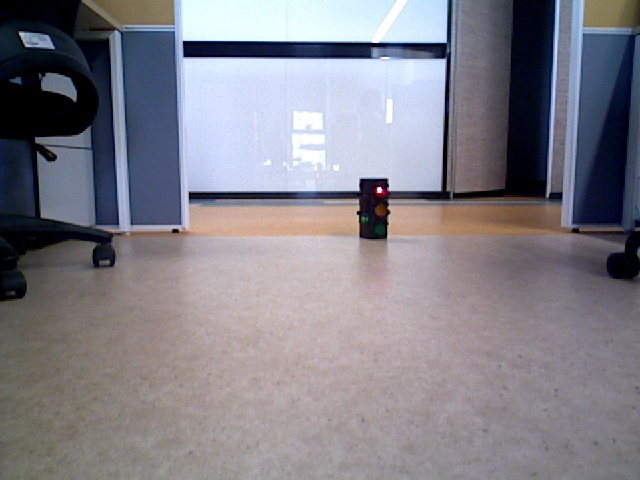red: (360, 178, 388, 234)
